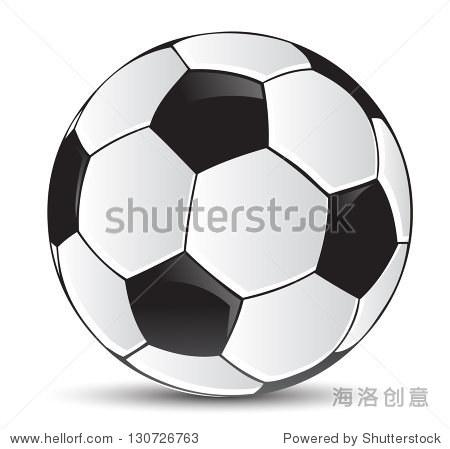football: (41, 26, 411, 404)
